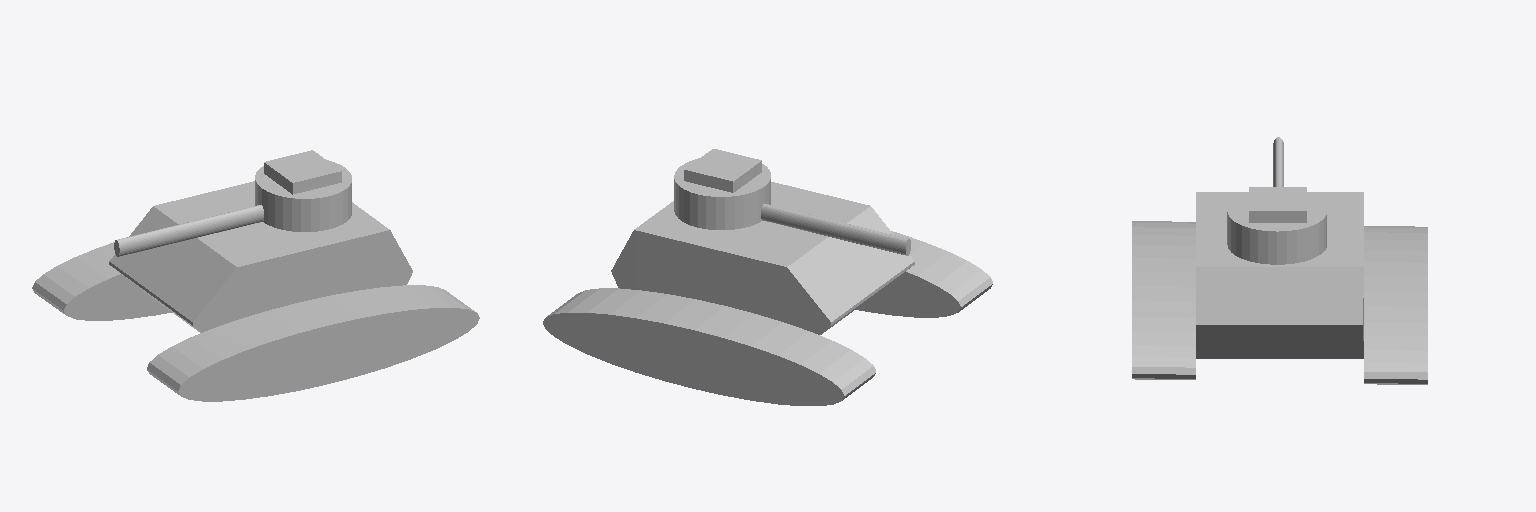
Rendered from tankv3.obj.
3 renders of one model, left to right at view 1: azimuth 30°, elevation 25°; view 2: azimuth 150°, elevation 25°; view 3: azimuth 270°, elevation 25°, orthographic.
Parts seen in each view (by area): view 1: senila1.001; view 2: senila1.001; view 3: senila1.001.
Part boxes in pixels (x1,y1,x2,y2): senila1.001: (32, 150, 479, 401); senila1.001: (543, 149, 992, 405); senila1.001: (1132, 137, 1427, 384).
Size of the model in its own units: 4.17 by 2.08 by 3.52.